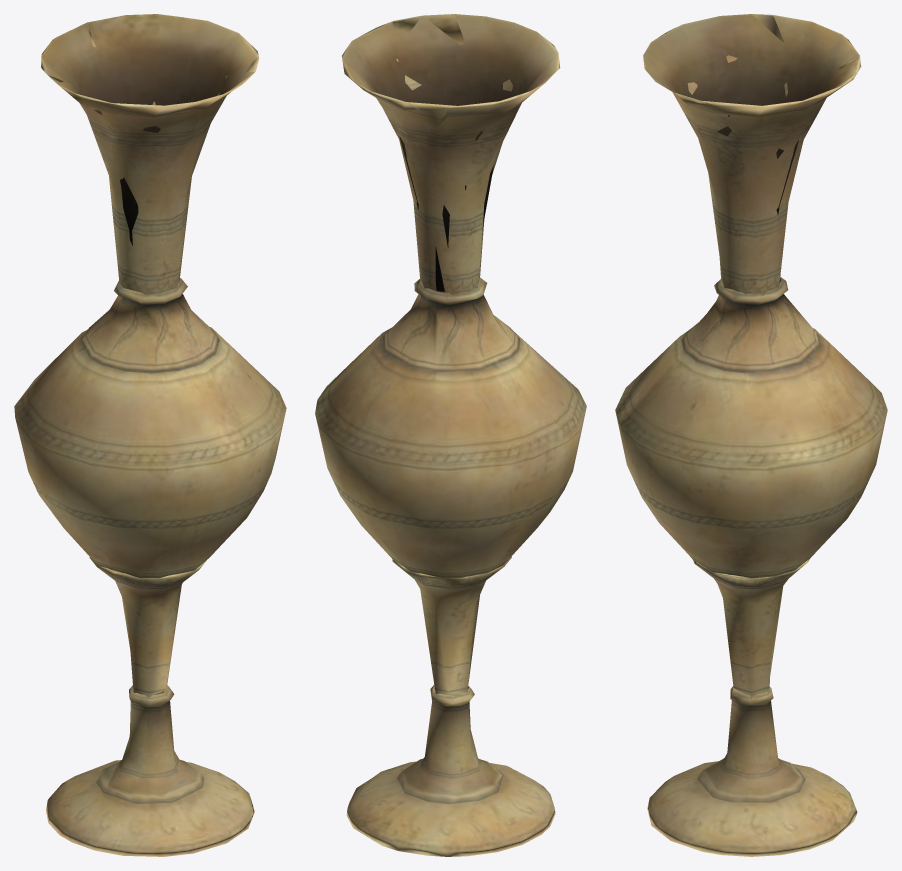
The model's file is brass_vase_01.glb.
The picture shows the model from 3 angles, left to right: view 1: azimuth 30°, elevation 25°; view 2: azimuth 150°, elevation 25°; view 3: azimuth 270°, elevation 25°; orthographic projection.
Parts seen in each view (by area): view 1: brass_vase_01; view 2: brass_vase_01; view 3: brass_vase_01.
Boxes of the visible parts, left/top/right/bottom form: brass_vase_01: left=14, top=14, right=286, bottom=856; brass_vase_01: left=315, top=14, right=586, bottom=856; brass_vase_01: left=615, top=14, right=887, bottom=856.
Bounding box in the file's own units: 0.2267 × 0.6925 × 0.2272.
1 material, 1 textured.
